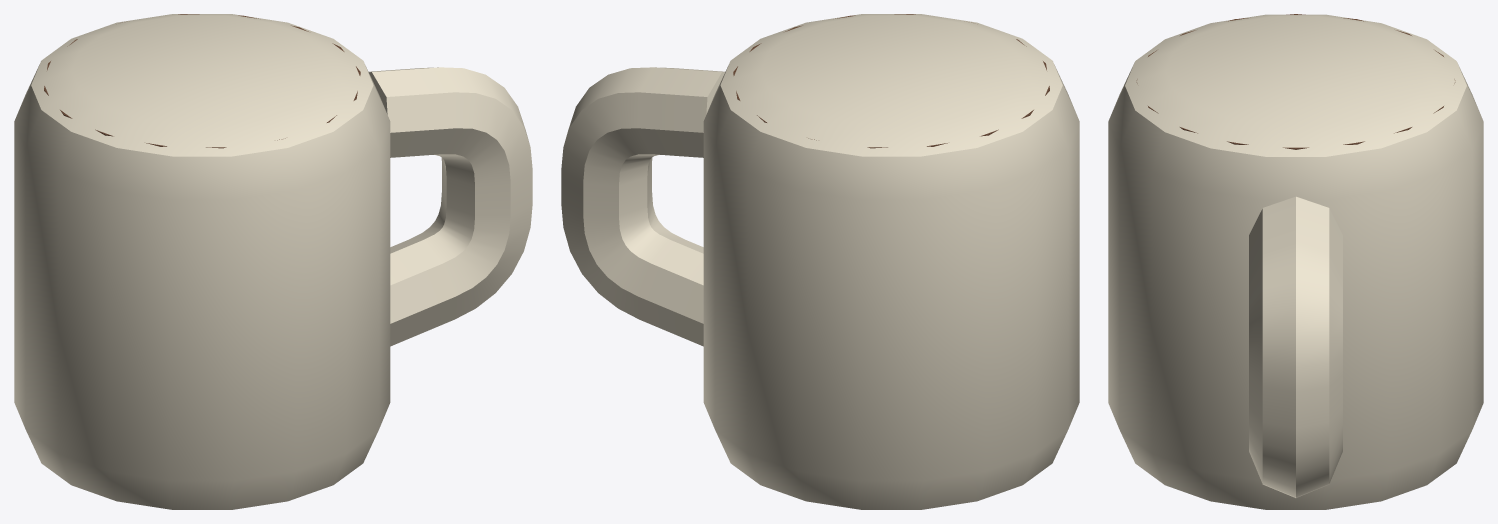
The model's file is mug.glb.
3 renders of one model, left to right at view 1: azimuth 30°, elevation 25°; view 2: azimuth 150°, elevation 25°; view 3: azimuth 270°, elevation 25°, orthographic.
Parts seen in each view (by area): view 1: cream; view 2: cream; view 3: cream.
Boxes of the visible parts, x1=… form: cream: x1=14, y1=14, x2=532, y2=509; cream: x1=561, y1=14, x2=1079, y2=509; cream: x1=1108, y1=14, x2=1483, y2=509.
Size of the model in its own units: 0.1194 by 0.09 by 0.08.
